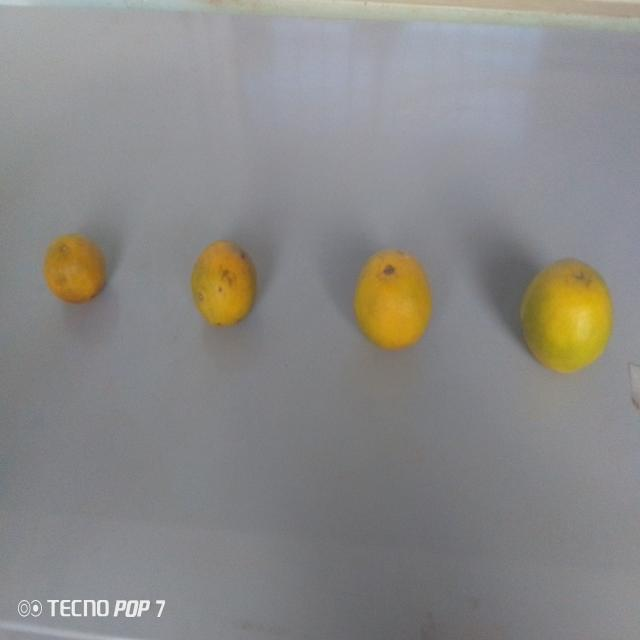Ripe orange: (514, 256, 612, 374), (354, 248, 428, 353), (189, 232, 260, 334), (37, 225, 107, 311)
